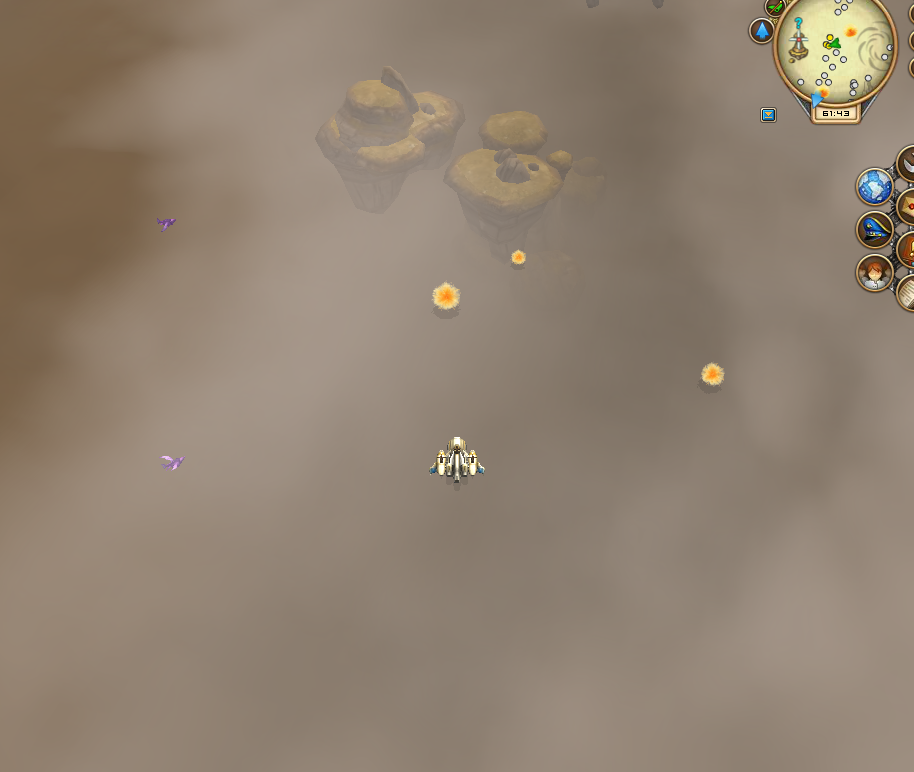fluff: (421, 271, 469, 320), (696, 348, 729, 394), (498, 246, 533, 274)
